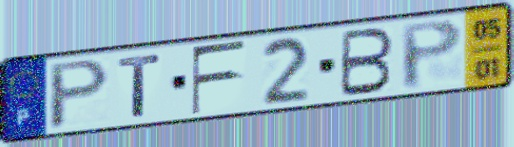2: (259, 35, 313, 109)
B: (337, 25, 397, 99)
F: (189, 38, 250, 118)
P: (46, 56, 114, 133), (398, 16, 466, 92)
T: (116, 51, 165, 120)
